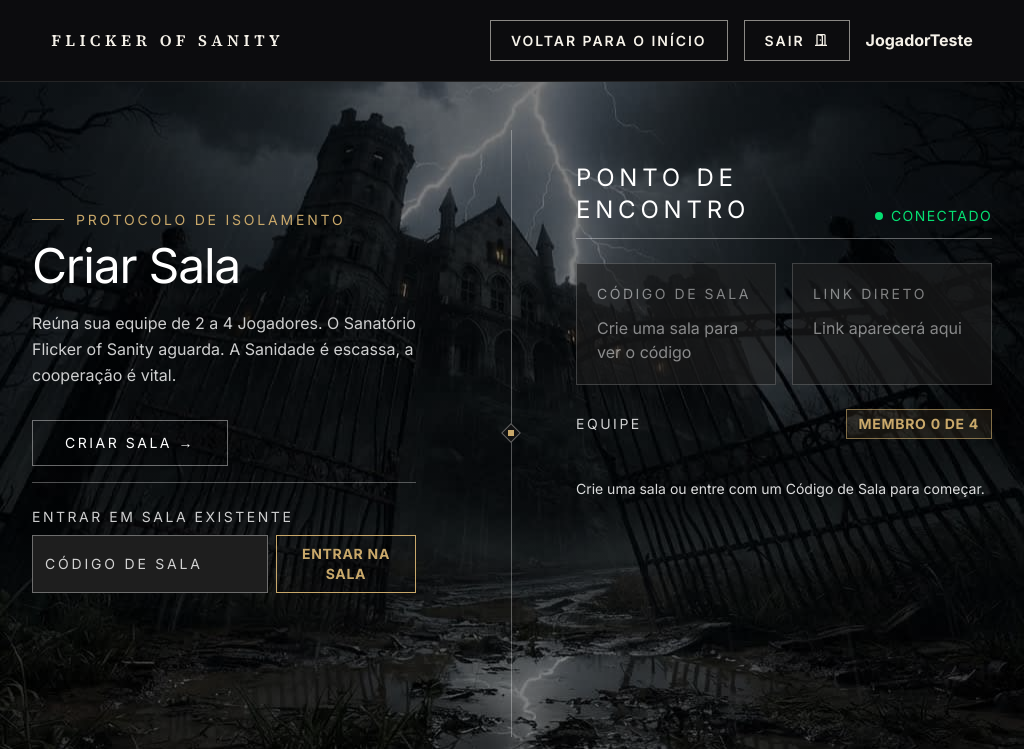
Test: authentication states › no lobby, o header oferece Voltar para o início (sem SAIR_DA_SALA) e Sair (logout)
This screenshot has width=1024, height=749.
Expected: the button "Sair" is shown, [744, 20, 850, 61]
# Voltar para o início: navega sem enviar SAIR_DA_SALA.
Click the button "Voltar para o início" at (609, 40), box [490, 20, 728, 61]
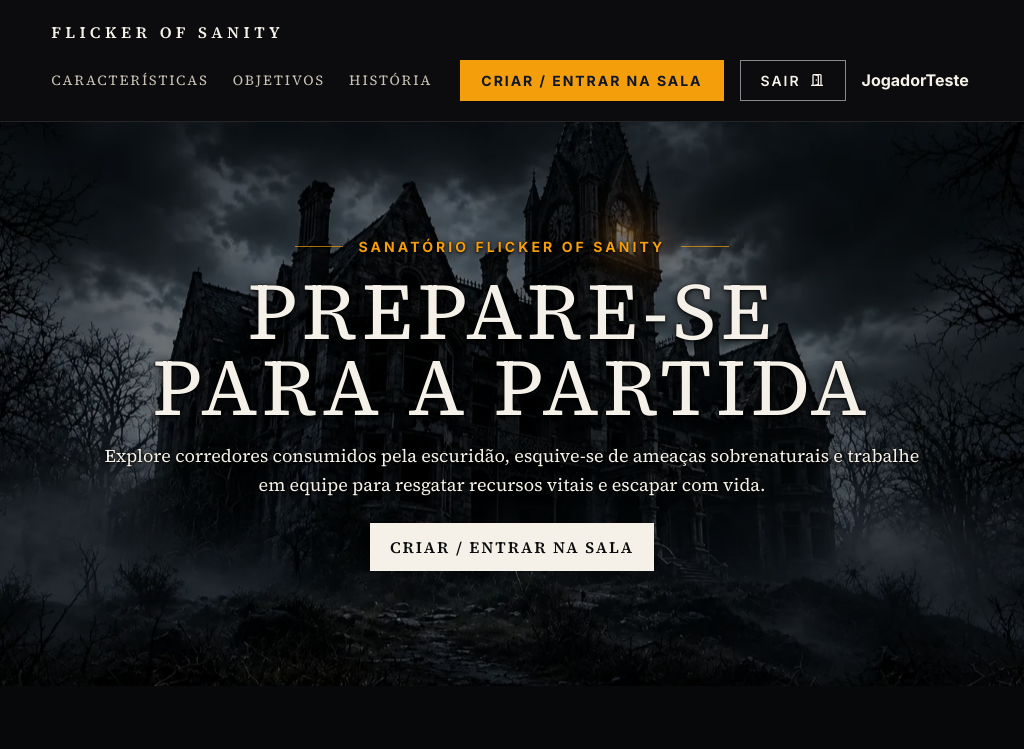
Expected: the text "JogadorTeste" is shown, [862, 68, 969, 92]
Now the heading "Prepare-se para a partida" is shown, box [96, 273, 928, 425]
Now the button "Voltar para o início" is gone
# Sair encerra a Sessão: volta como Visitante à home.
Click the button "Sair" at (792, 80), box [740, 60, 846, 101]
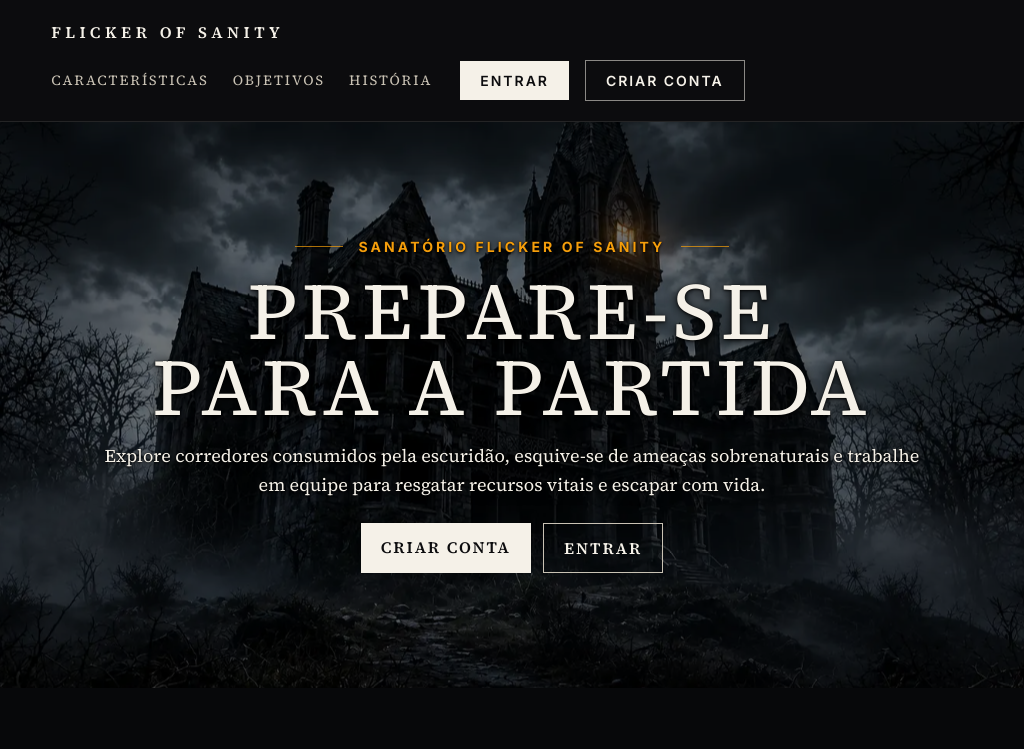
Now the heading "Prepare-se para a partida" is shown, box [96, 273, 928, 425]
Now the text "JogadorTeste" is gone
